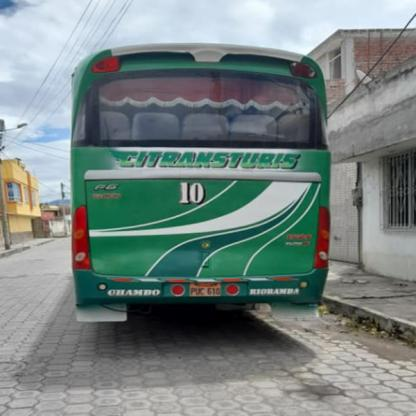Placa: (188, 282, 225, 299)
